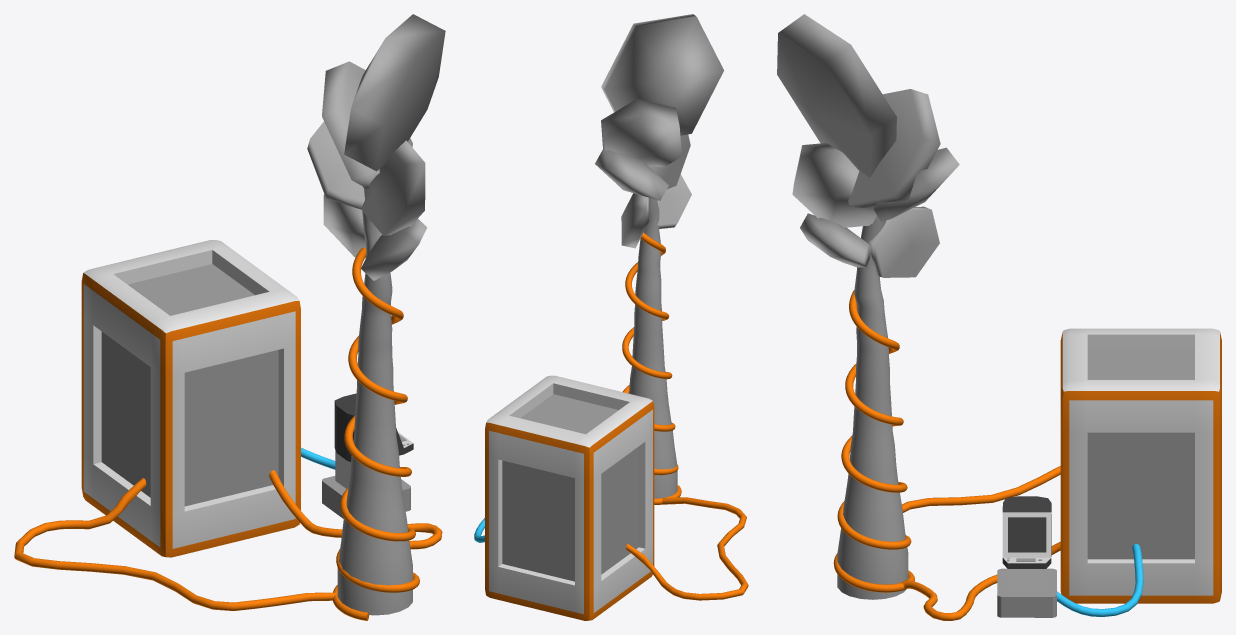
The model's file is Tree_Machine_2.fbx.
3 views of the same model, side by side, from view 1: azimuth 30°, elevation 25°; view 2: azimuth 150°, elevation 25°; view 3: azimuth 270°, elevation 25° (orthographic). The views are drawn at different scales.
Parts seen in each view (by area): view 1: Object001, Cylinder001, Sphere006, Helix001, Line004, Sphere002, Sphere004, Box002, Sphere003, Sphere001, Sphere005, Line001; view 2: Object001, Sphere006, Cylinder001, Sphere004, Line004, Sphere003, Helix001, Sphere005, Sphere001, Sphere002; view 3: Object001, Cylinder001, Sphere006, Box002, Sphere004, Sphere002, Helix001, Sphere005, Sphere001, Sphere003, Line004, Line001 (+1 smaller).
Part boxes in pixels (<box>): Object001: <box>81,240,300,557</box>; Cylinder001: <box>337,186,412,615</box>; Sphere006: <box>344,14,445,171</box>; Helix001: <box>332,248,419,620</box>; Line004: <box>14,478,336,610</box>; Sphere002: <box>362,140,425,235</box>; Sphere004: <box>322,61,412,188</box>; Box002: <box>322,393,413,518</box>; Sphere003: <box>307,121,364,209</box>; Sphere001: <box>361,219,427,280</box>; Sphere005: <box>323,194,366,258</box>; Line001: <box>269,470,442,549</box>; Object001: <box>485,375,654,620</box>; Sphere006: <box>601,14,723,135</box>; Cylinder001: <box>629,171,677,498</box>; Sphere004: <box>601,98,681,167</box>; Line004: <box>626,497,748,600</box>; Sphere003: <box>595,148,668,200</box>; Helix001: <box>622,232,681,504</box>; Sphere005: <box>621,193,648,248</box>; Sphere001: <box>657,174,691,228</box>; Sphere002: <box>649,134,690,189</box>; Object001: <box>1060,328,1221,603</box>; Cylinder001: <box>837,216,908,599</box>; Sphere006: <box>777,14,896,177</box>; Box002: <box>997,496,1056,617</box>; Sphere004: <box>848,89,940,208</box>; Sphere002: <box>792,143,876,227</box>; Helix001: <box>833,276,914,592</box>; Sphere005: <box>869,206,939,277</box>; Sphere001: <box>800,213,871,268</box>; Sphere003: <box>873,147,959,221</box>; Line004: <box>902,466,1060,512</box>; Line001: <box>900,541,1060,620</box>.
Bounding box in the file's own units: 119 × 196 × 139.
